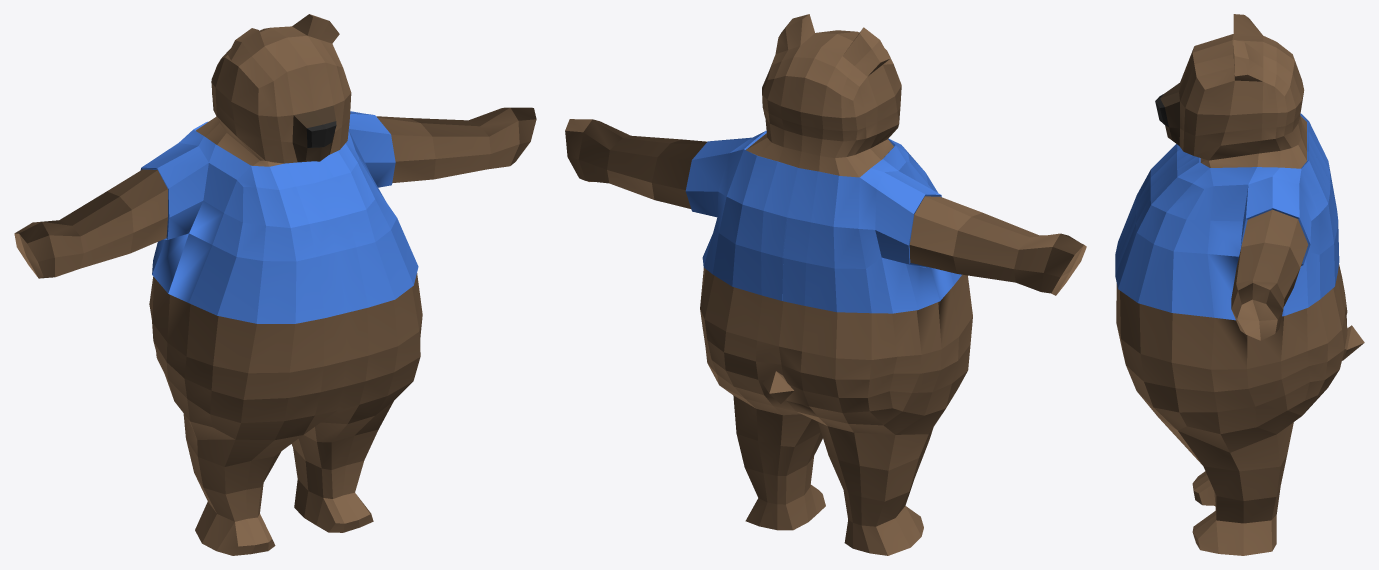
File: oso.fbx
The picture shows the model from 3 angles, left to right: view 1: azimuth 30°, elevation 25°; view 2: azimuth 150°, elevation 25°; view 3: azimuth 270°, elevation 25°; orthographic projection. The views are drawn at different scales.
Visible parts, largest first — view 1: Oso, Oso.001; view 2: Oso, Oso.001; view 3: Oso, Oso.001.
Boxes of the visible parts, x1=… form: Oso: x1=14, y1=14, x2=536, y2=555; Oso.001: x1=140, y1=111, x2=418, y2=323; Oso: x1=565, y1=14, x2=1086, y2=555; Oso.001: x1=685, y1=130, x2=961, y2=313; Oso: x1=1116, y1=14, x2=1364, y2=555; Oso.001: x1=1115, y1=113, x2=1339, y2=320.
Size of the model in its own units: 249 by 233 by 107.
